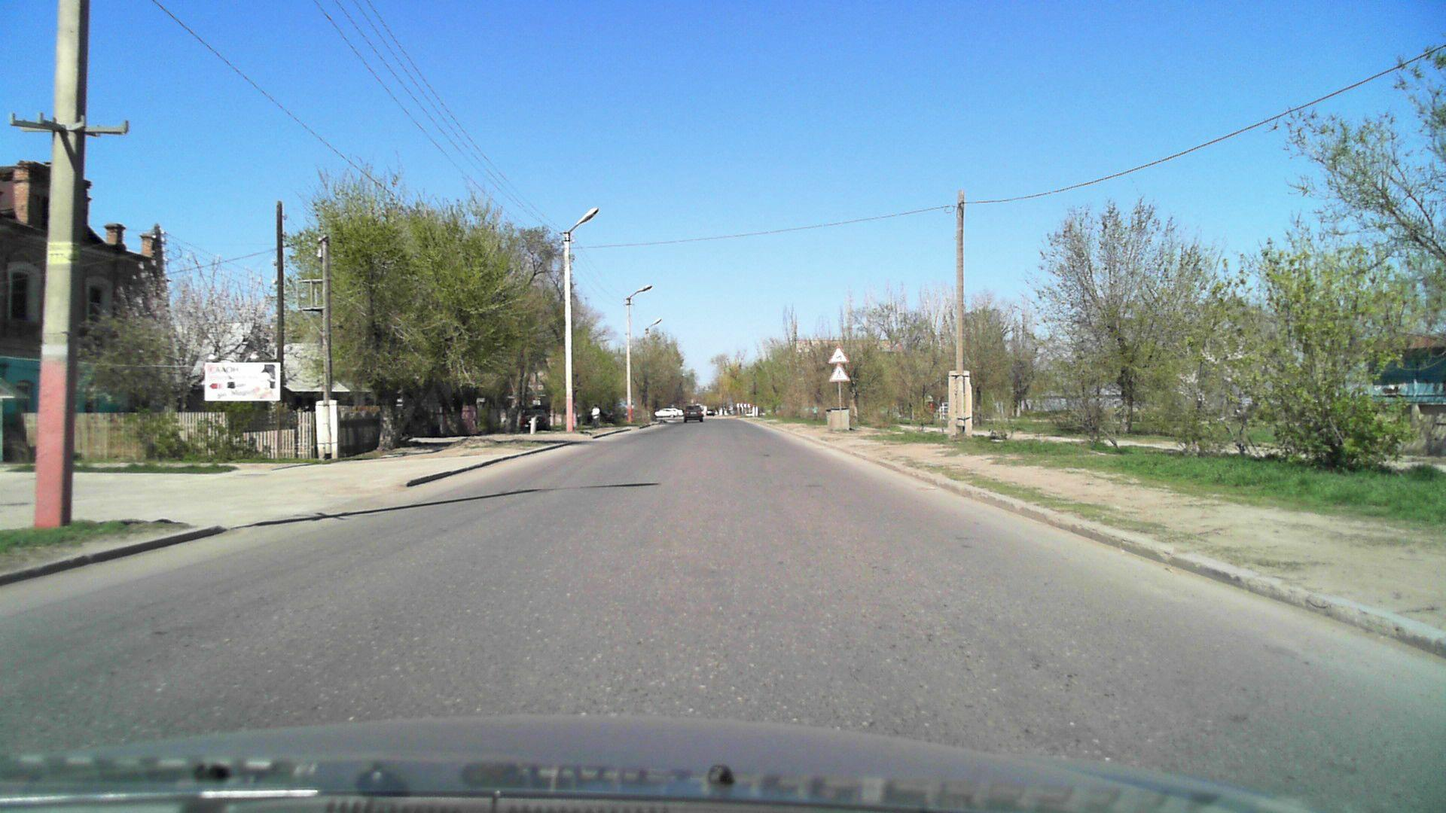road_sign: (826, 344, 853, 364), (827, 362, 853, 381)
